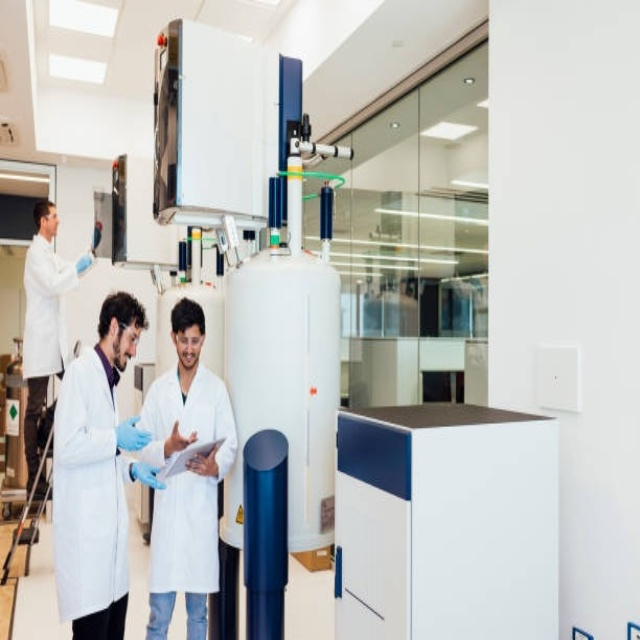Gafas: (118, 321, 141, 345), (174, 331, 205, 345)
Guantes: (116, 414, 152, 452), (130, 461, 167, 490), (76, 252, 93, 274)
Sin_guantes: (185, 440, 221, 479), (166, 417, 199, 455)
Sin_mascara: (115, 350, 134, 372), (180, 353, 198, 370)
